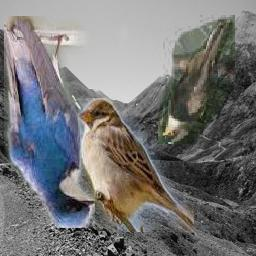Cuckoo: (159, 16, 236, 145)
Sparrow: (78, 98, 194, 232)
Swallow: (5, 16, 96, 228)
